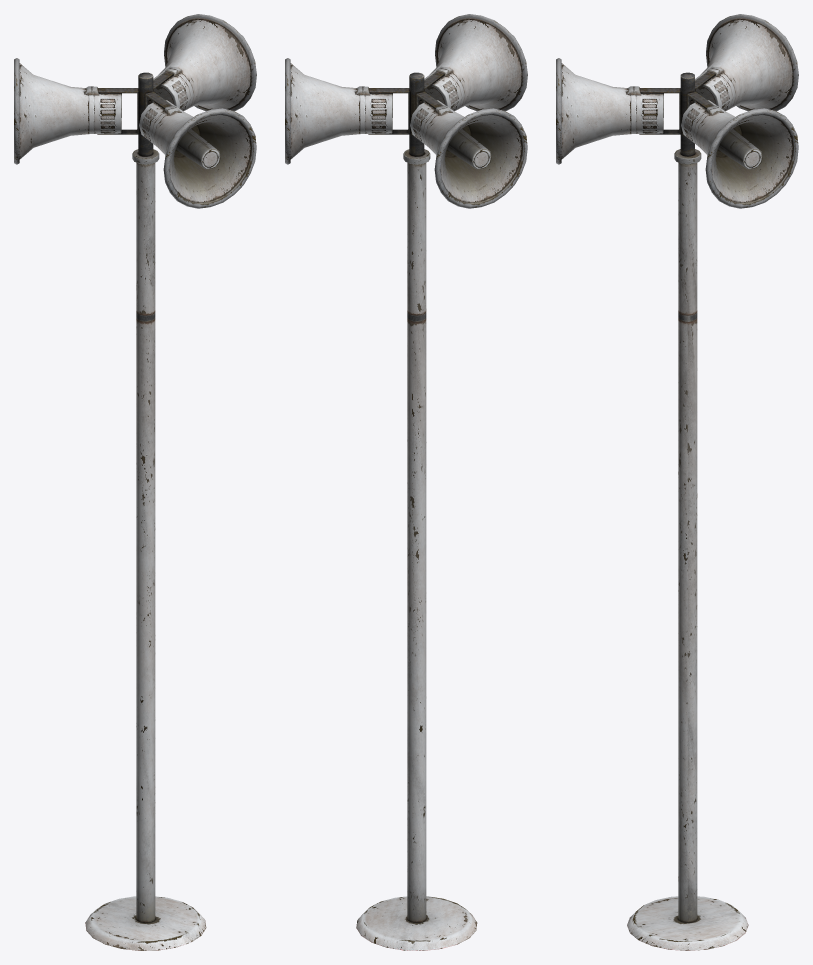
The model's file is prop_megaphone.fbx.
The picture shows the model from 3 angles, left to right: view 1: azimuth 30°, elevation 25°; view 2: azimuth 150°, elevation 25°; view 3: azimuth 270°, elevation 25°; orthographic projection.
Parts seen in each view (by area): view 1: prop_megaphone; view 2: prop_megaphone; view 3: prop_megaphone.
Boxes of the visible parts, x1=… form: prop_megaphone: x1=14, y1=14, x2=256, y2=950; prop_megaphone: x1=285, y1=14, x2=527, y2=950; prop_megaphone: x1=556, y1=14, x2=798, y2=950.
Bounding box in the file's own units: 163 × 555 × 142.
